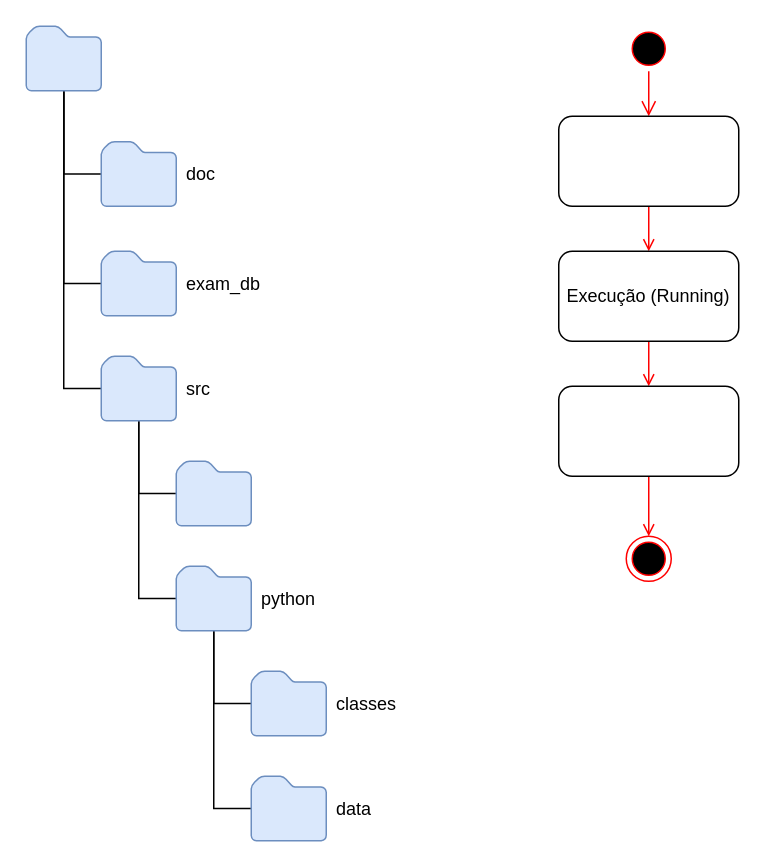
Image size: 765x867. Some labels were removed from this diagram. Each missing label, with the box of its shape:
Finalização (Finish): (557, 385, 739, 476)
Inicialização (Init): (557, 115, 739, 206)
notebooks: (175, 460, 251, 526)
Respositório: (25, 25, 101, 91)
